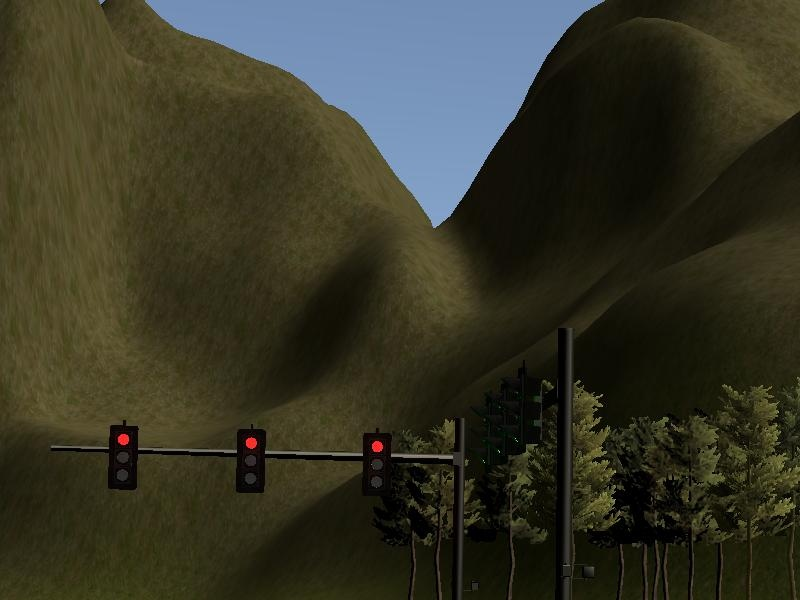red: (100, 418, 143, 496), (357, 421, 396, 502), (230, 421, 272, 496)
